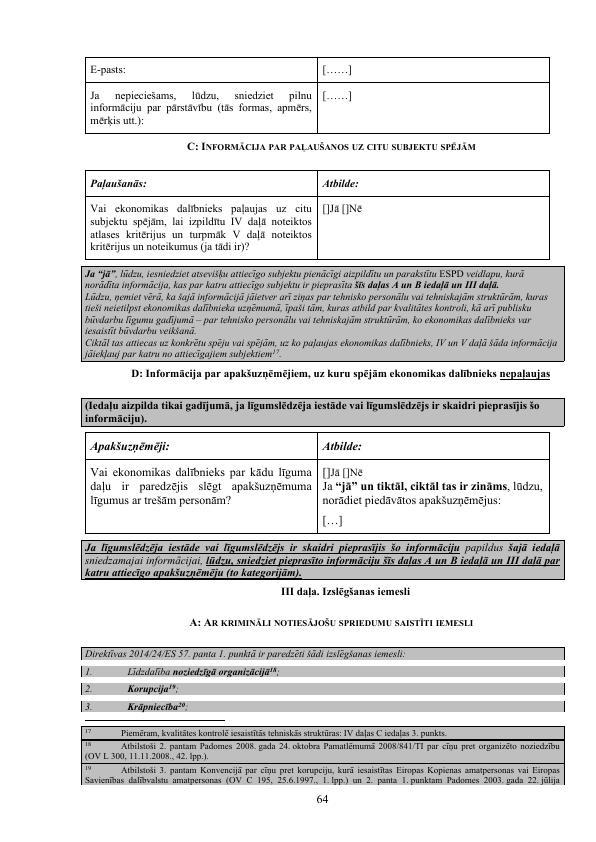table: (77, 642, 572, 789), (82, 429, 551, 536), (82, 165, 553, 261), (78, 53, 559, 139)
text: (82, 540, 565, 578), (83, 399, 552, 423), (127, 364, 553, 385), (182, 136, 482, 156), (184, 615, 479, 632), (273, 584, 414, 601)
